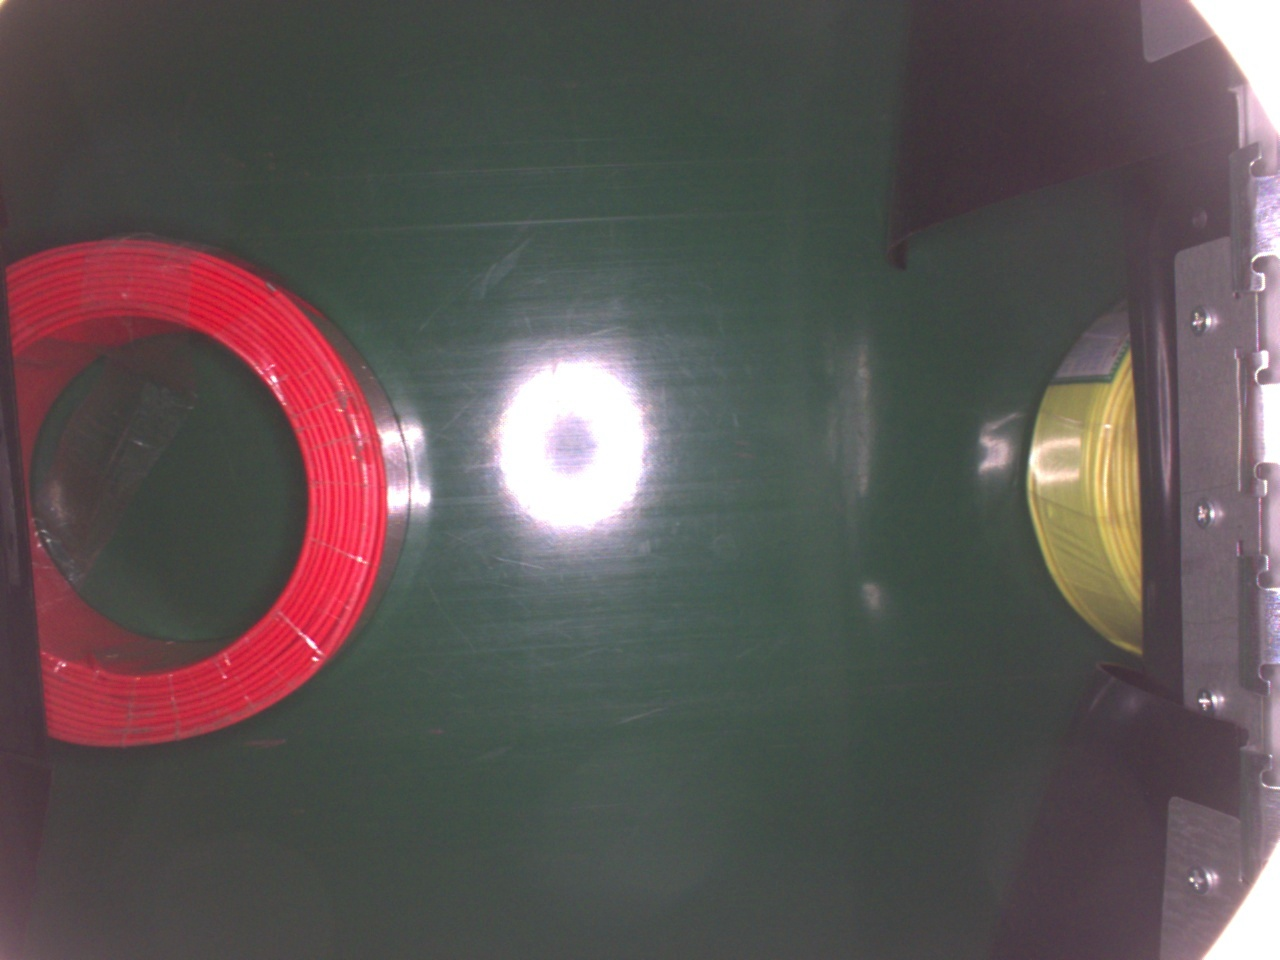red: (3, 228, 411, 753)
